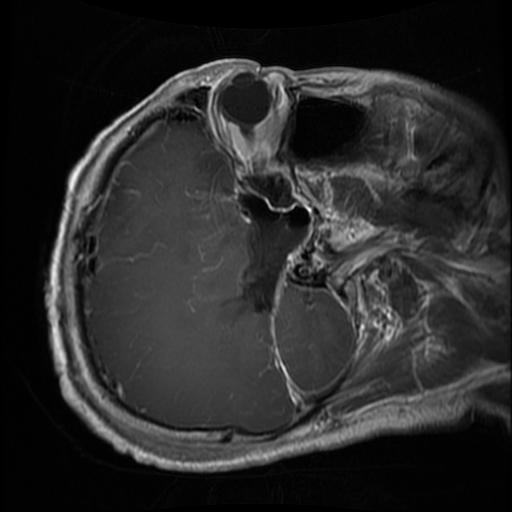glioma: (233, 184, 309, 315)
